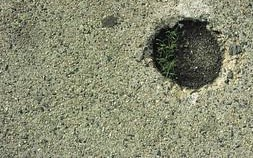Spalling: (151, 17, 224, 90)
